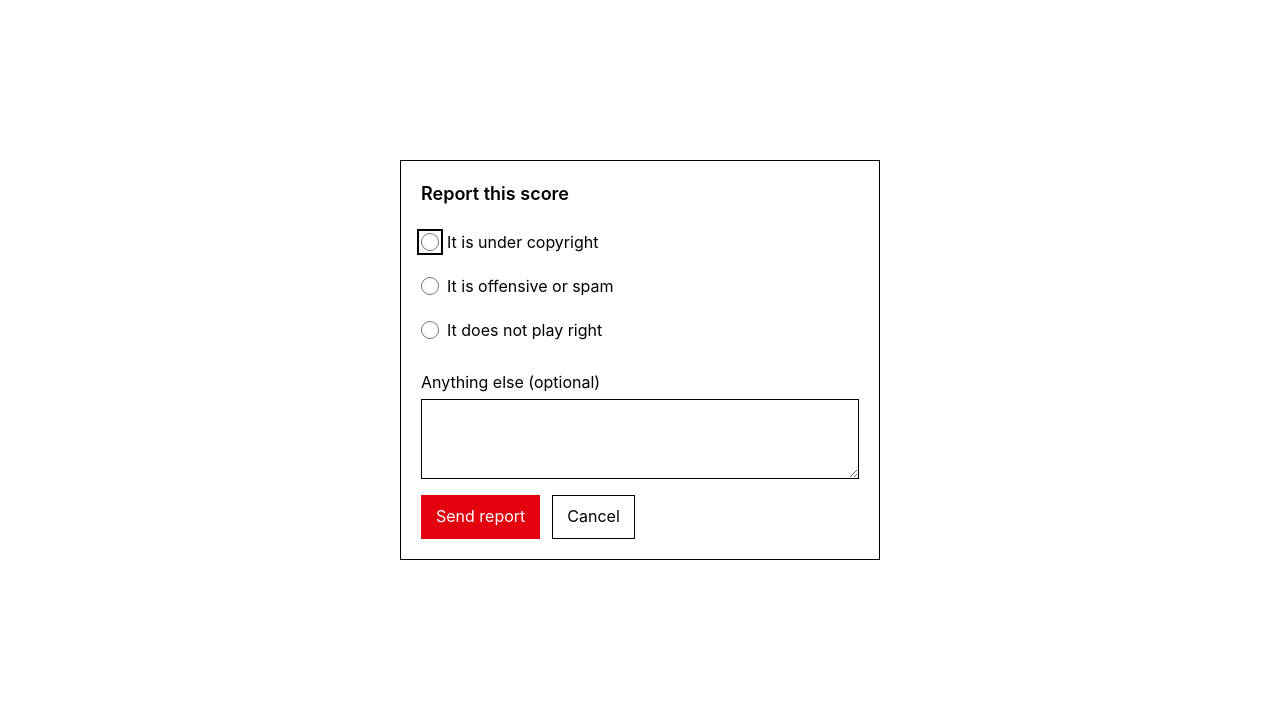
Test: a report needs a reason, and for a copyright claim a way to reply
Click the button "Send report" at (481, 517), box [421,495,540,539]
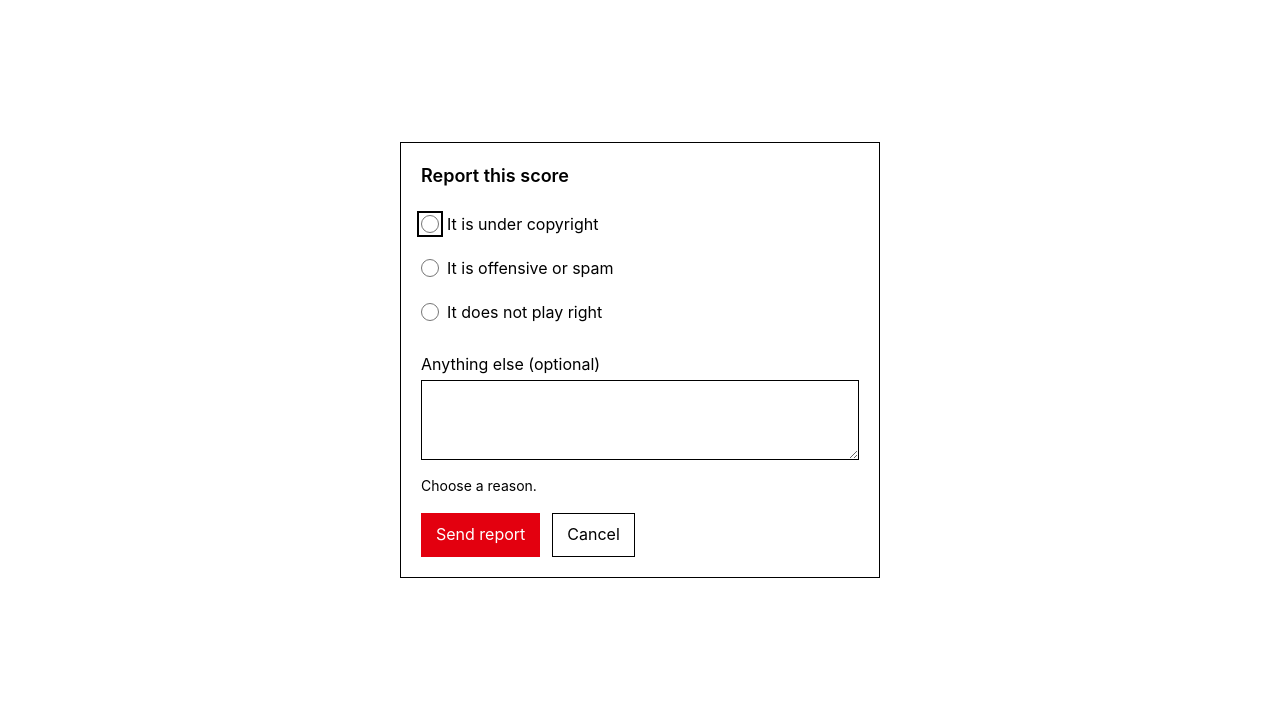
Now the message reads "Choose a reason.", box [421,478,537,494]
Click the radio button labelled "It is under copyright" at (430, 224), box [421,215,439,233]
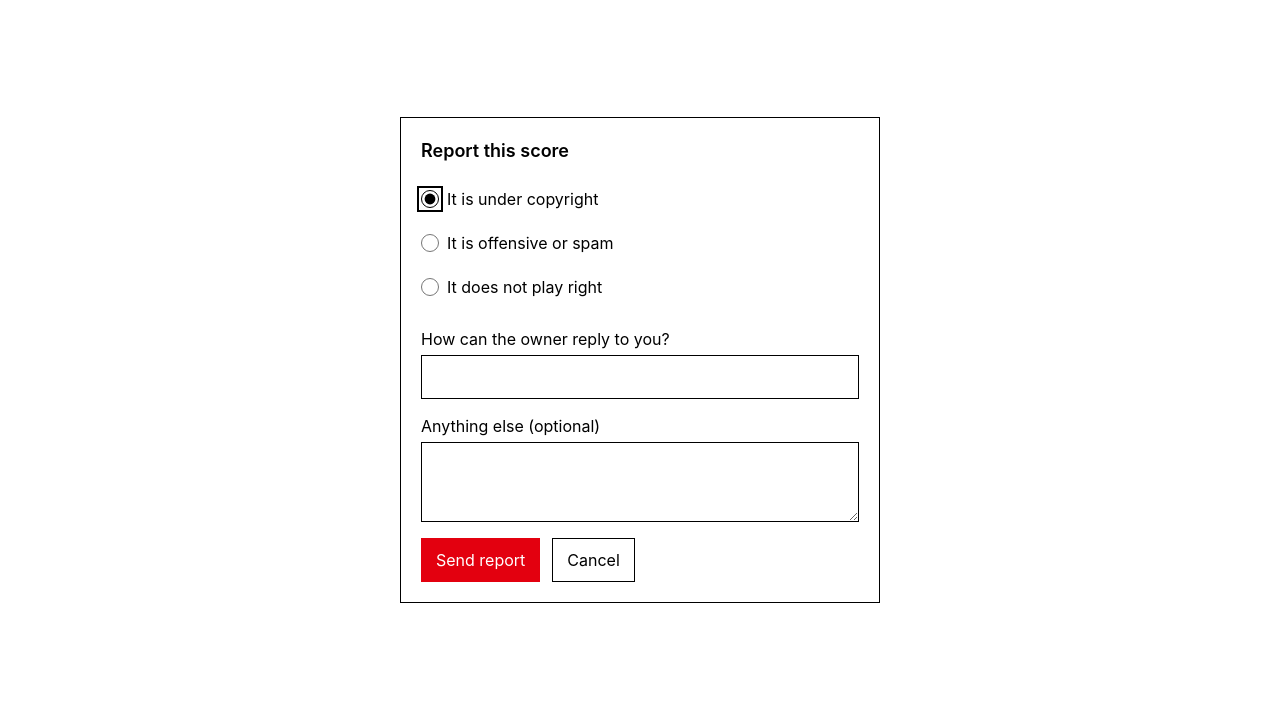
Now the field labelled "How can the owner reply to you?" is shown, box [421,355,859,399]
Click the button "Send report" at (481, 560), box [421,538,540,582]
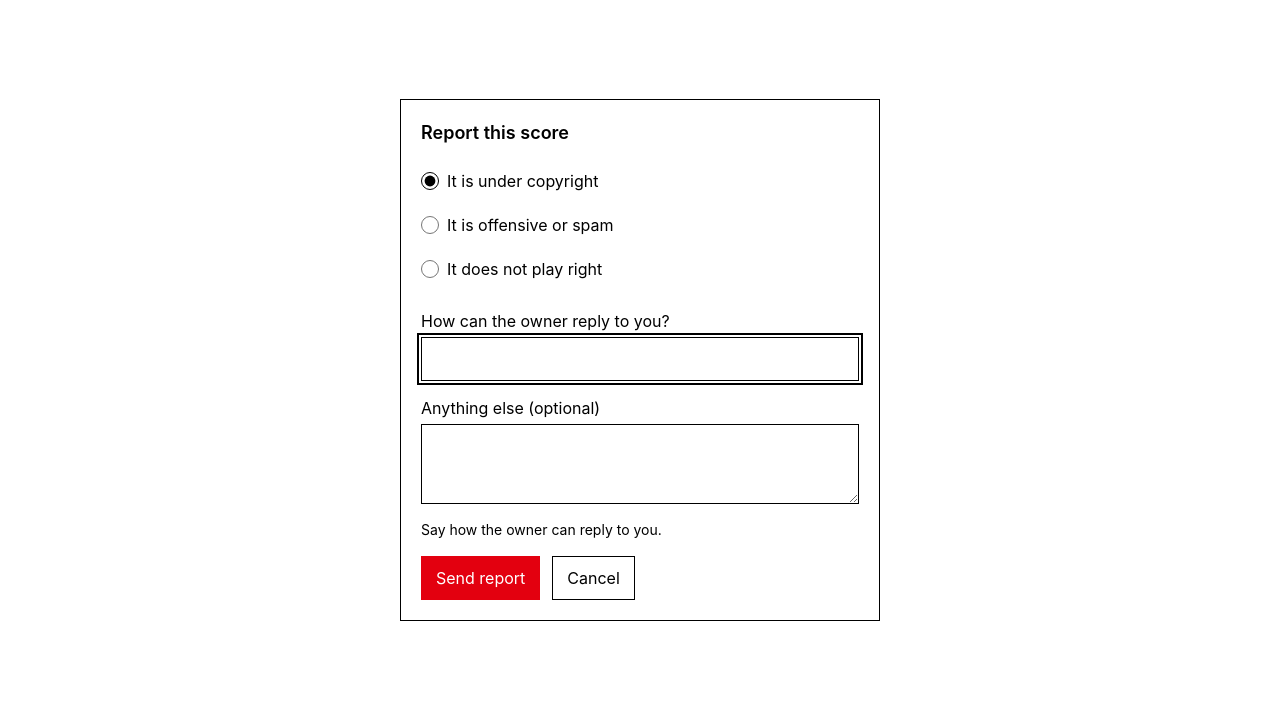
Now the message reads "Say how the owner can reply to you.", box [421,521,662,538]
Type "me@example.org" into the field labelled "How can the owner reply to you?" at (640, 359), box [421,337,859,381]
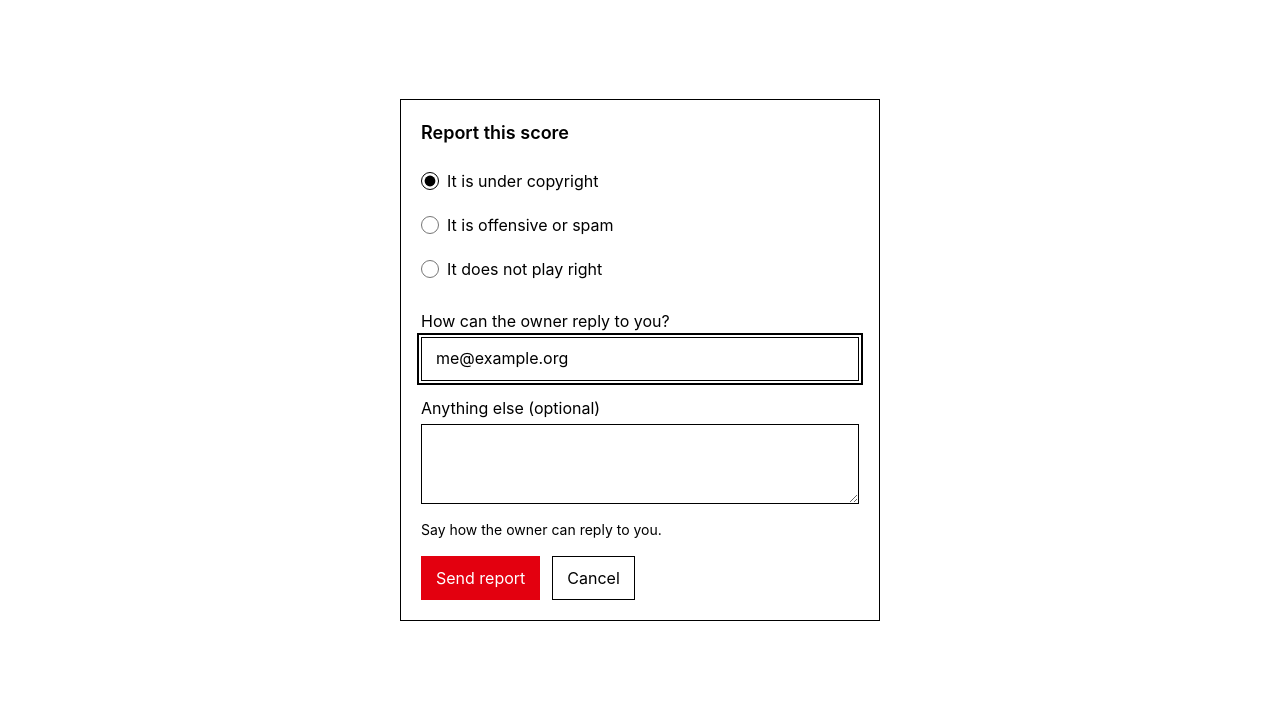
Type " The Beatles " into the text box labelled "Anything else (optional)" at (640, 464), box [421,424,859,504]
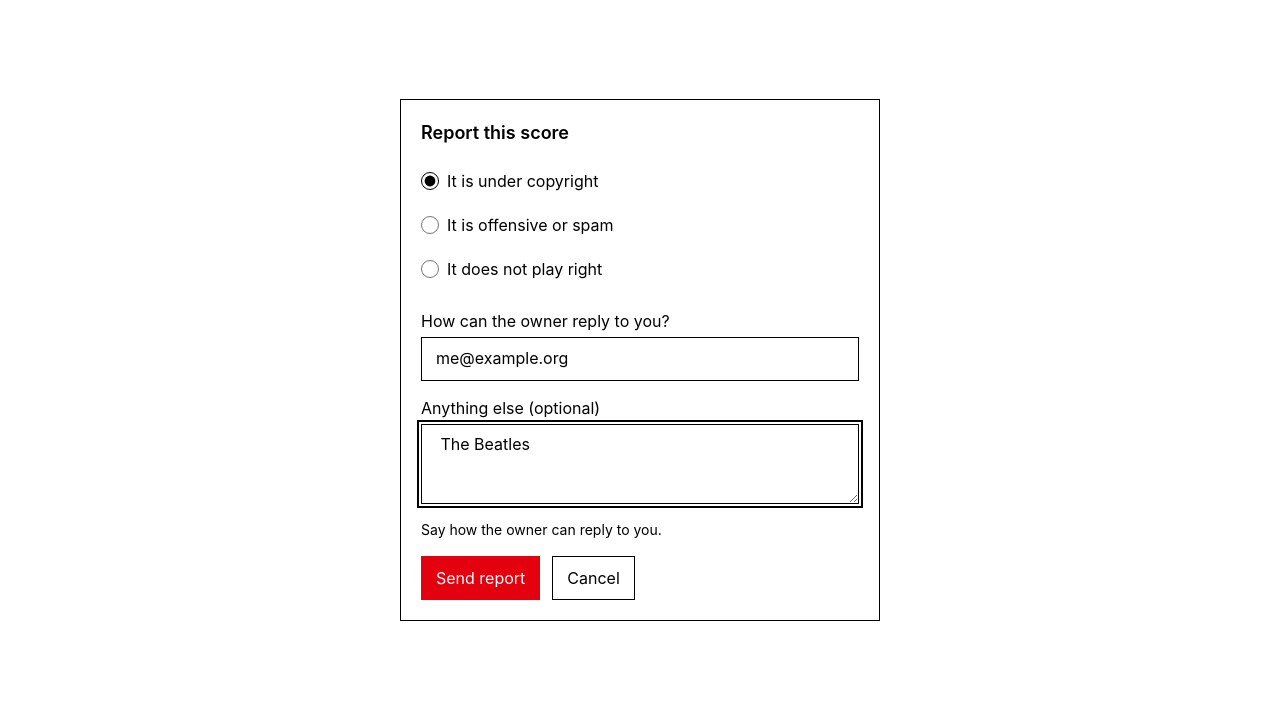
Click the button "Send report" at (481, 578), box [421,556,540,600]
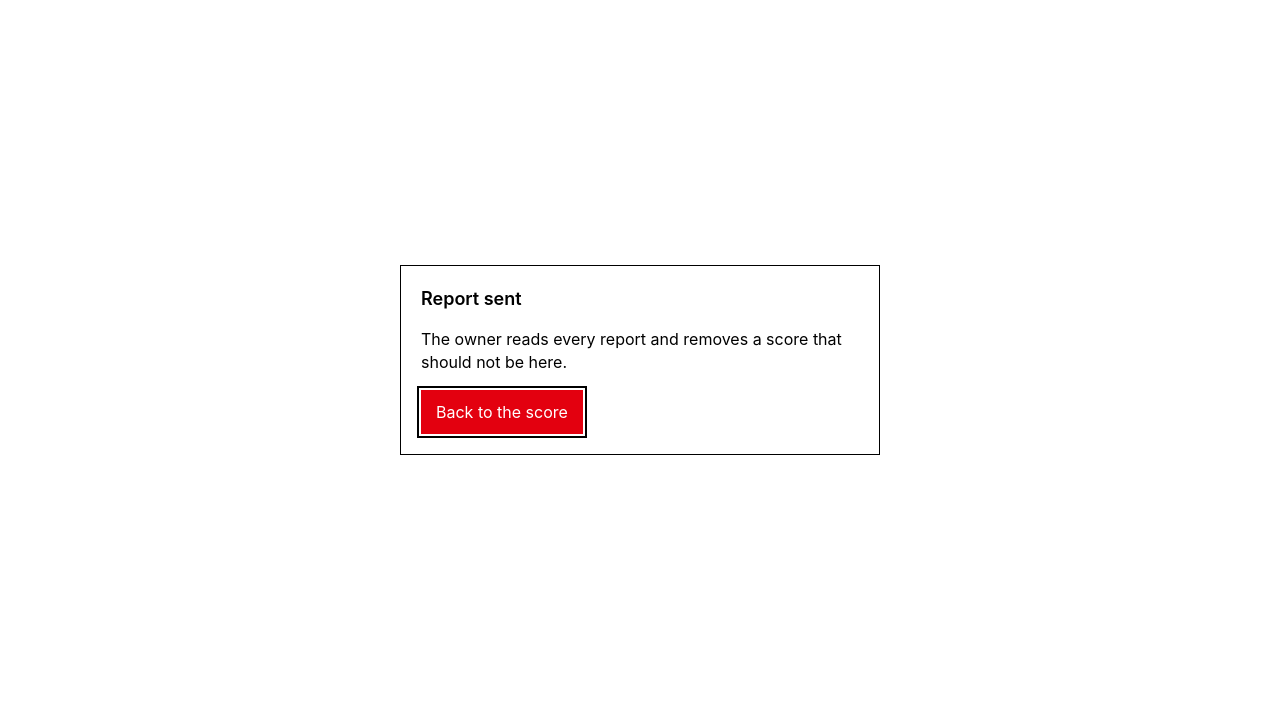
Now the heading "Report sent" is shown, box [421,288,522,309]
Now the text "The owner reads every report and removes a score that should not be here." is shown, box [421,328,859,374]
Now the button "Back to the score" is shown, box [421,390,583,434]
